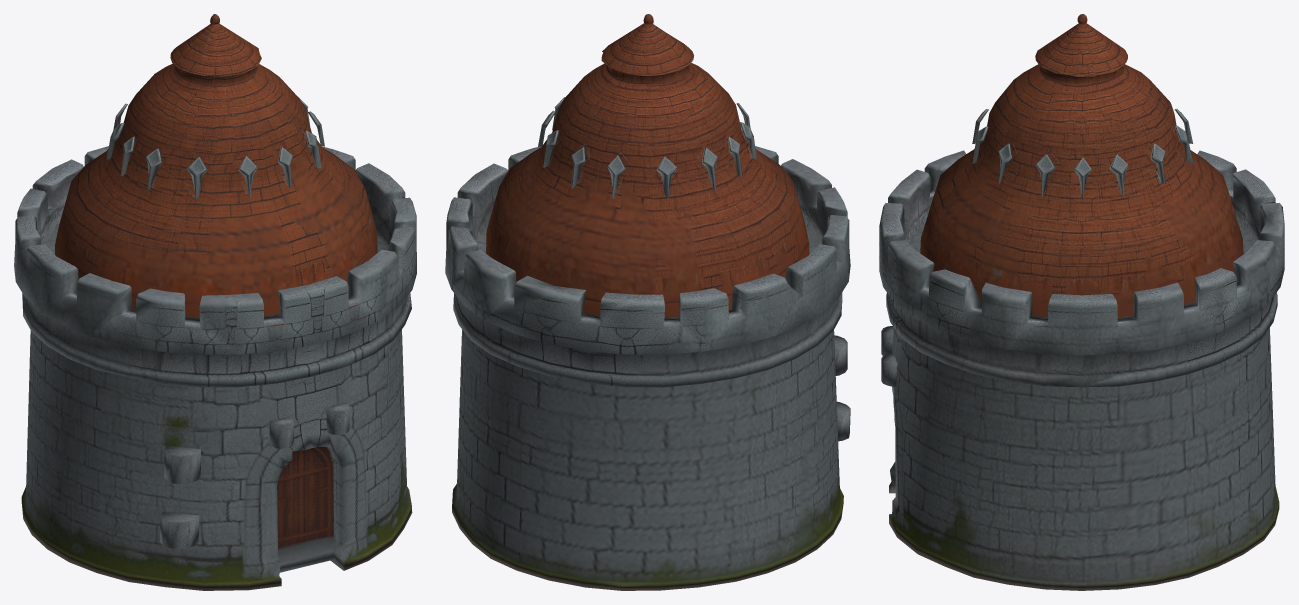
Rendered from wall_tower.glb.
The picture shows the model from 3 angles, left to right: view 1: azimuth 30°, elevation 25°; view 2: azimuth 150°, elevation 25°; view 3: azimuth 270°, elevation 25°; orthographic projection.
Bounding box in the file's own units: 0.7065 × 0.9512 × 0.708.
Materials: 1 (1 with a texture image).
